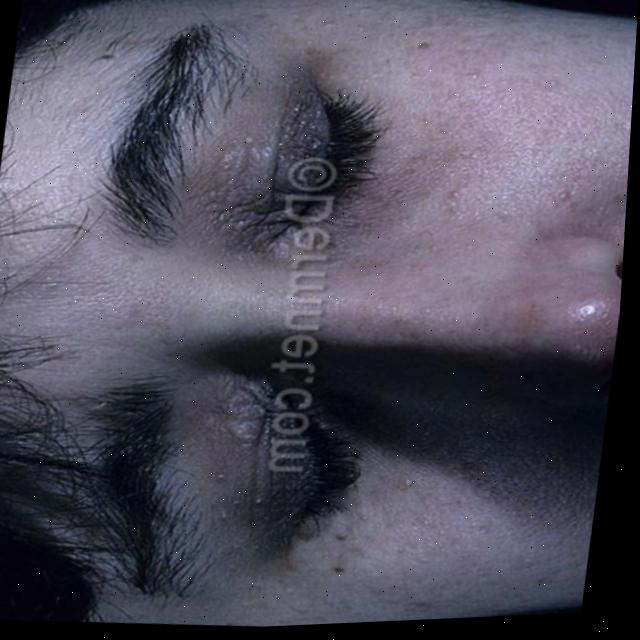Eczema: (189, 69, 324, 272), (205, 385, 330, 545)
